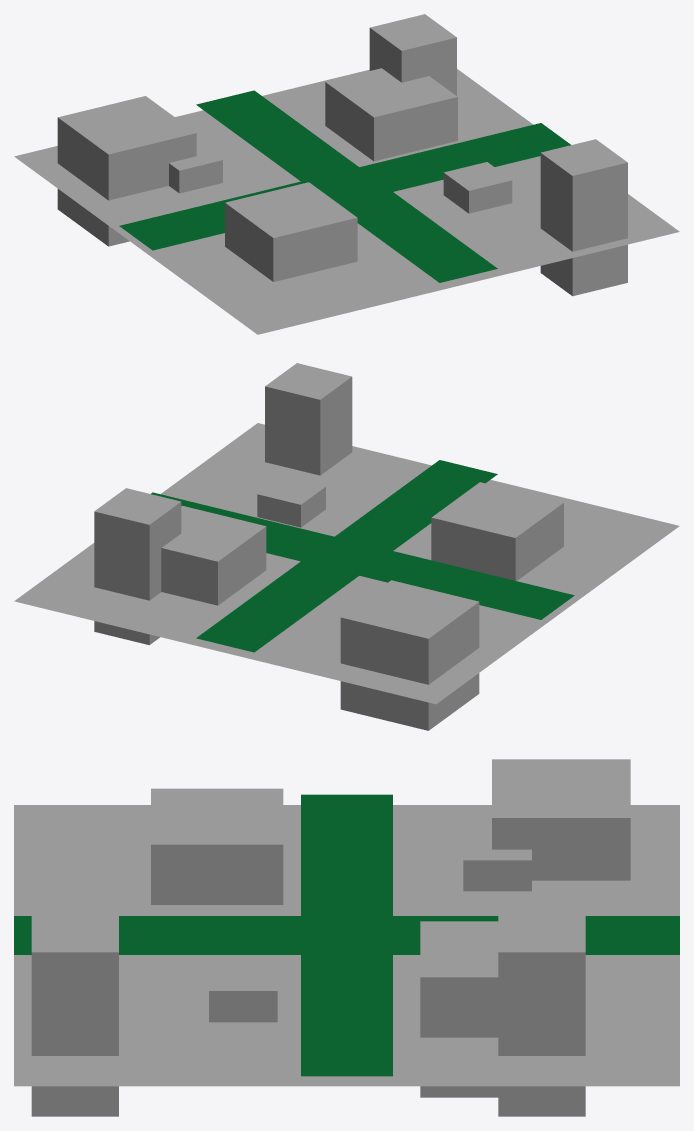
The model's file is street_crossing_002.fbx.
3 views of the same model, one above another, from view 1: azimuth 30°, elevation 25°; view 2: azimuth 150°, elevation 25°; view 3: azimuth 270°, elevation 25° (orthographic). The views are drawn at different scales.
Parts seen in each view (by area): view 1: street_crossing_002; view 2: street_crossing_002; view 3: street_crossing_002.
Boxes of the visible parts, x1,y1,x2,y2 form: street_crossing_002: (14, 14, 679, 334); street_crossing_002: (14, 363, 679, 730); street_crossing_002: (14, 759, 679, 1116).
Bounding box in the file's own units: 1 × 0.2757 × 1.
